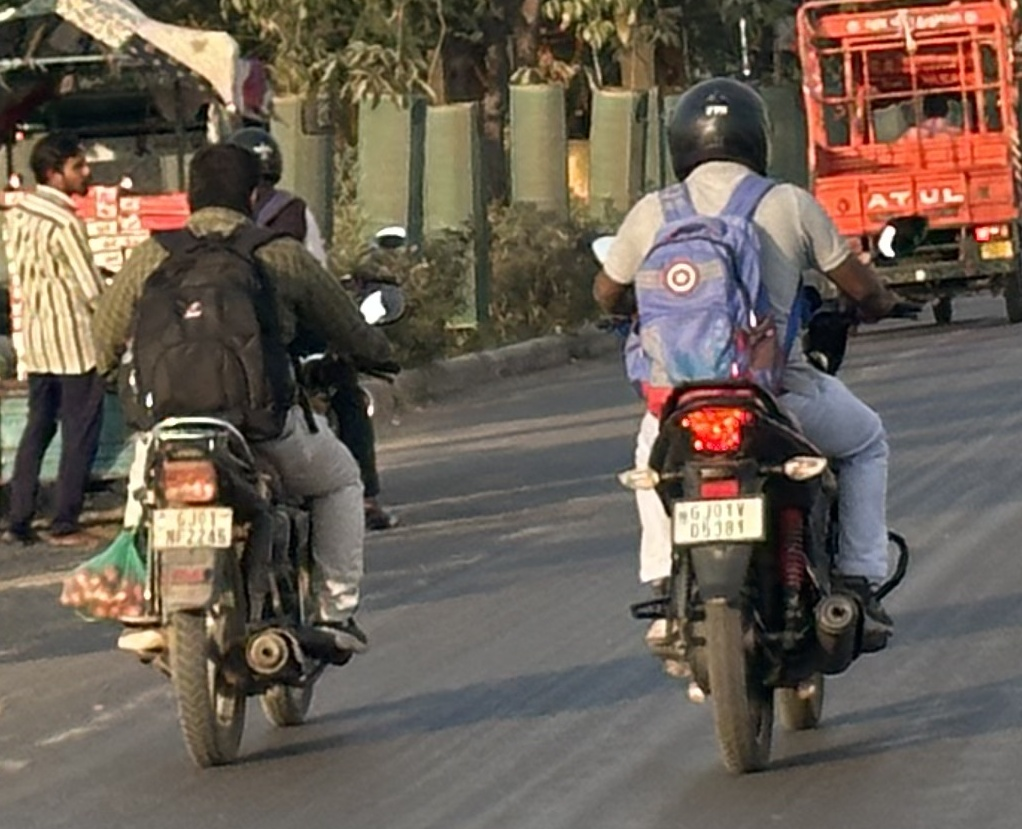BikeWithRider: (580, 67, 923, 786), (51, 116, 419, 777)
Helmet: (652, 67, 785, 188), (214, 118, 294, 199)
NoHelmet: (172, 134, 271, 230)
